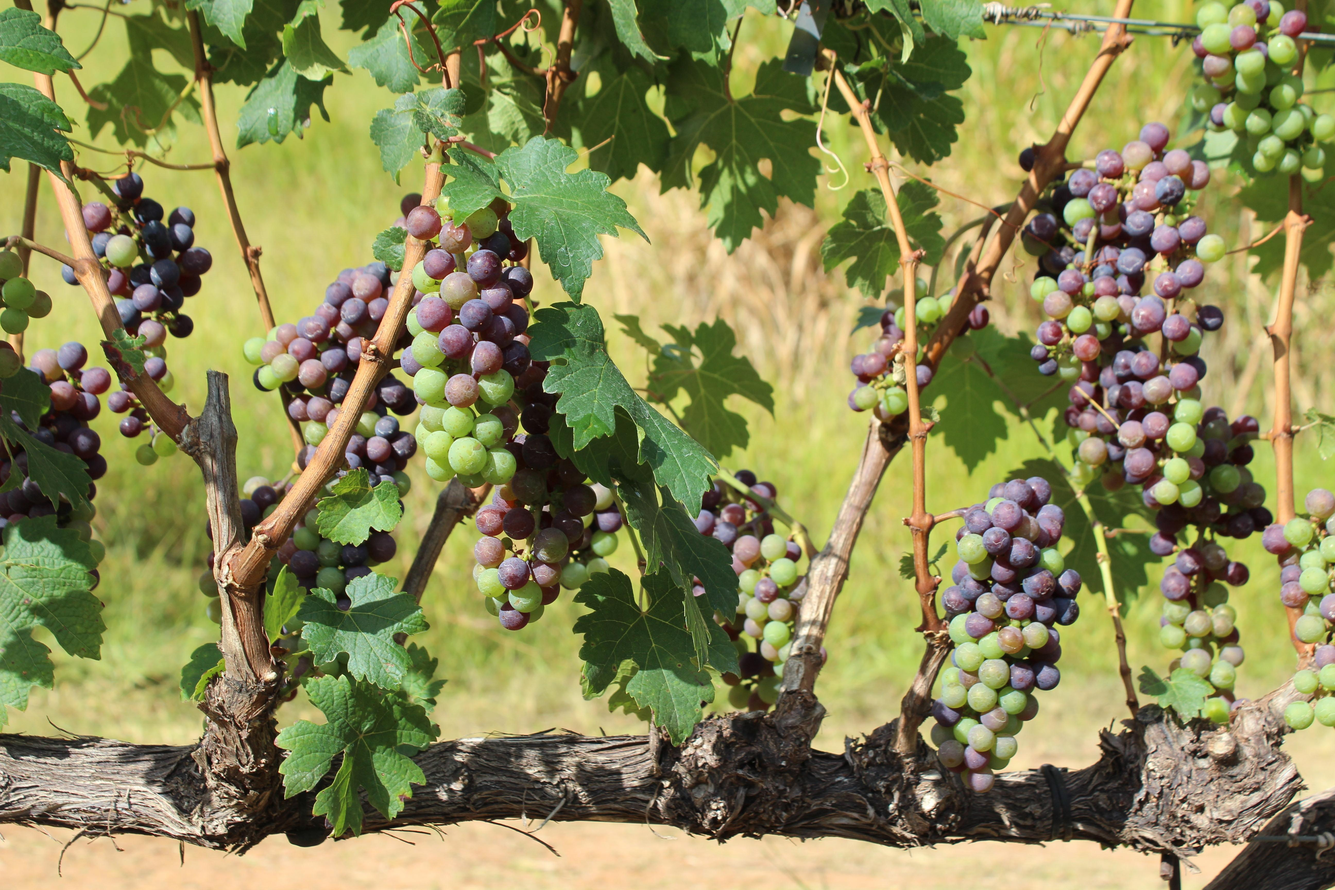leaf: (530, 303, 716, 514), (549, 411, 737, 615), (442, 136, 646, 300), (662, 58, 820, 252), (276, 676, 438, 836), (496, 136, 647, 300), (574, 569, 714, 744), (0, 515, 105, 725), (650, 319, 774, 459), (298, 573, 427, 689), (1010, 459, 1104, 596), (87, 51, 201, 147), (578, 66, 669, 181), (822, 190, 900, 300), (0, 414, 91, 506), (237, 60, 332, 148), (0, 83, 74, 173), (318, 468, 402, 544), (348, 17, 427, 93), (0, 7, 82, 75), (281, 14, 347, 81), (1138, 666, 1215, 720), (897, 181, 944, 265), (1107, 533, 1159, 602), (609, 0, 664, 64), (1300, 184, 1335, 280), (186, 0, 253, 49), (263, 565, 306, 641), (401, 642, 446, 713), (432, 0, 496, 49), (0, 368, 50, 430), (1086, 482, 1150, 529), (179, 643, 225, 700), (919, 0, 985, 39), (1239, 178, 1288, 225), (101, 328, 148, 374), (1305, 408, 1335, 460), (373, 226, 407, 271), (1251, 237, 1285, 276), (697, 622, 726, 649), (709, 645, 735, 671), (617, 316, 624, 323), (409, 15, 415, 18), (1062, 545, 1065, 549), (0, 396, 3, 400), (4, 418, 8, 420), (632, 3, 633, 8), (623, 420, 624, 422), (614, 177, 615, 178), (697, 629, 698, 629)
